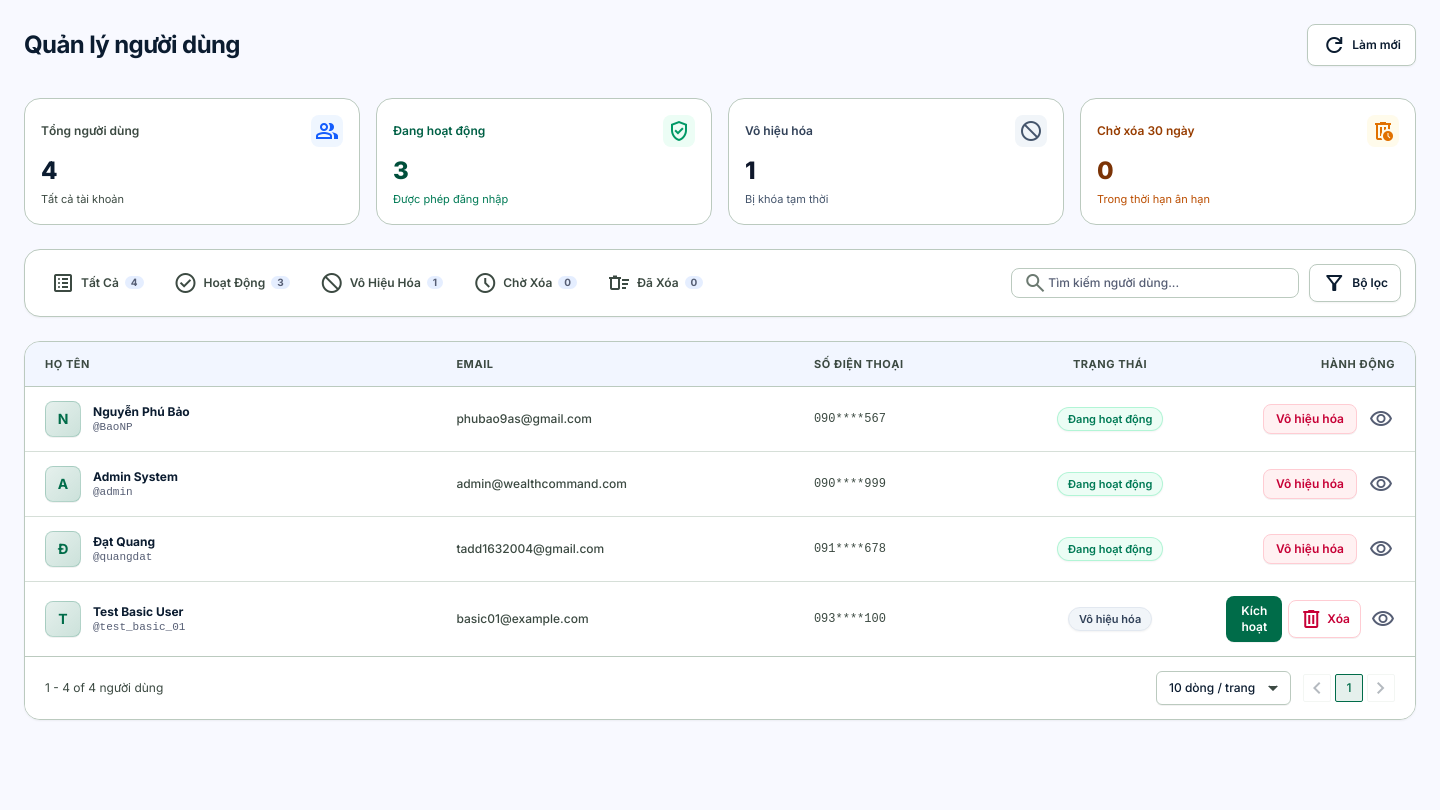
Test: UserListPage Refinements & 2-Tier Architecture Suite › ⚡ TẦNG 2: Real System Impact & Accurate Package Filtering Verification › 2.3. Nhấn "Đặt lại" (Reset): Khôi phục danh sách hiển thị đầy đủ cả Basic và Premium
Expected: the text "Nguyễn Phú Bảo" is shown, [93, 404, 190, 419]
Note: Lọc Premium trước
Click the button "Bộ lọc" at (1355, 282), box [1309, 264, 1401, 302]
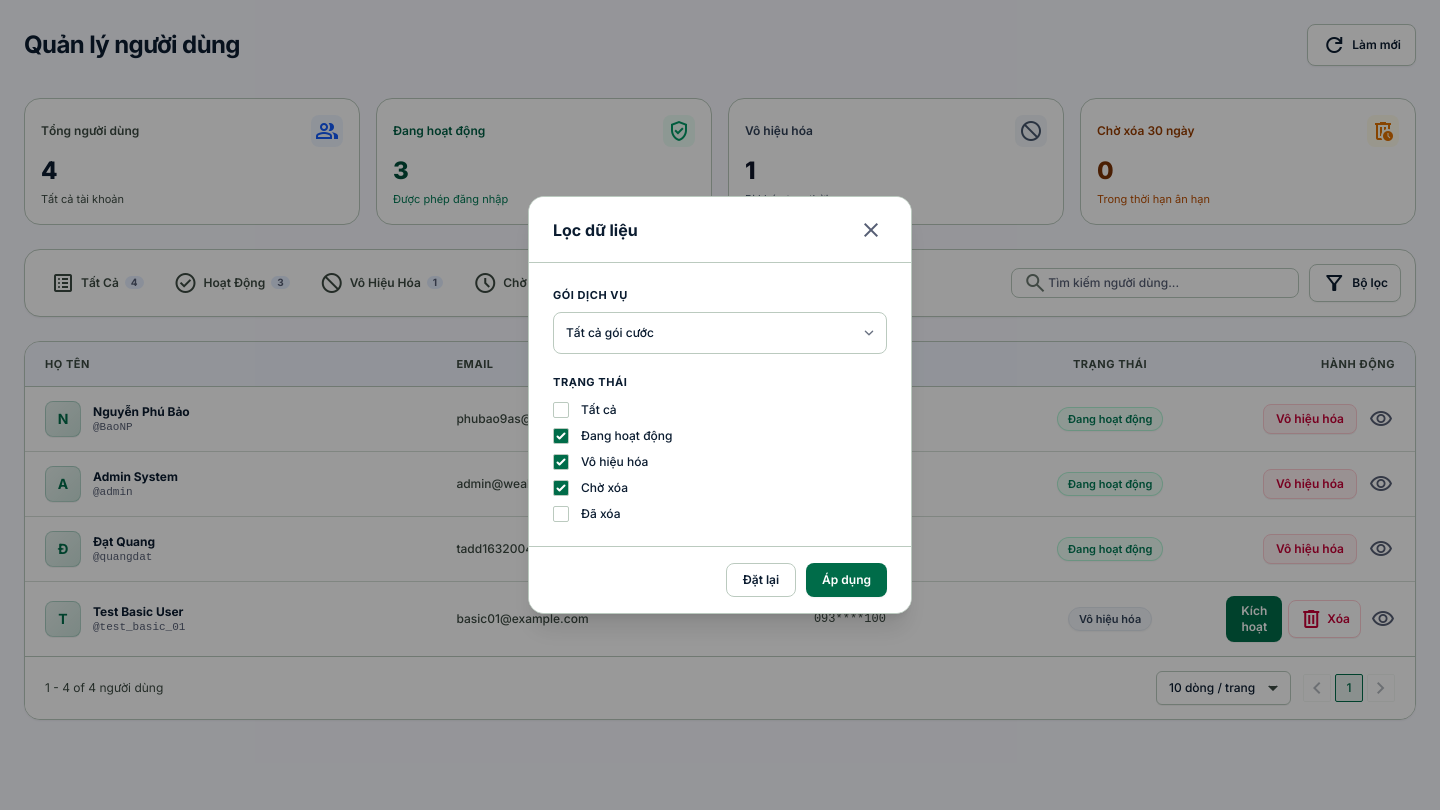
Select "Gói VIP (Premium)" in the dropdown with test id "filter-package" at (720, 333), box [553, 312, 887, 354]
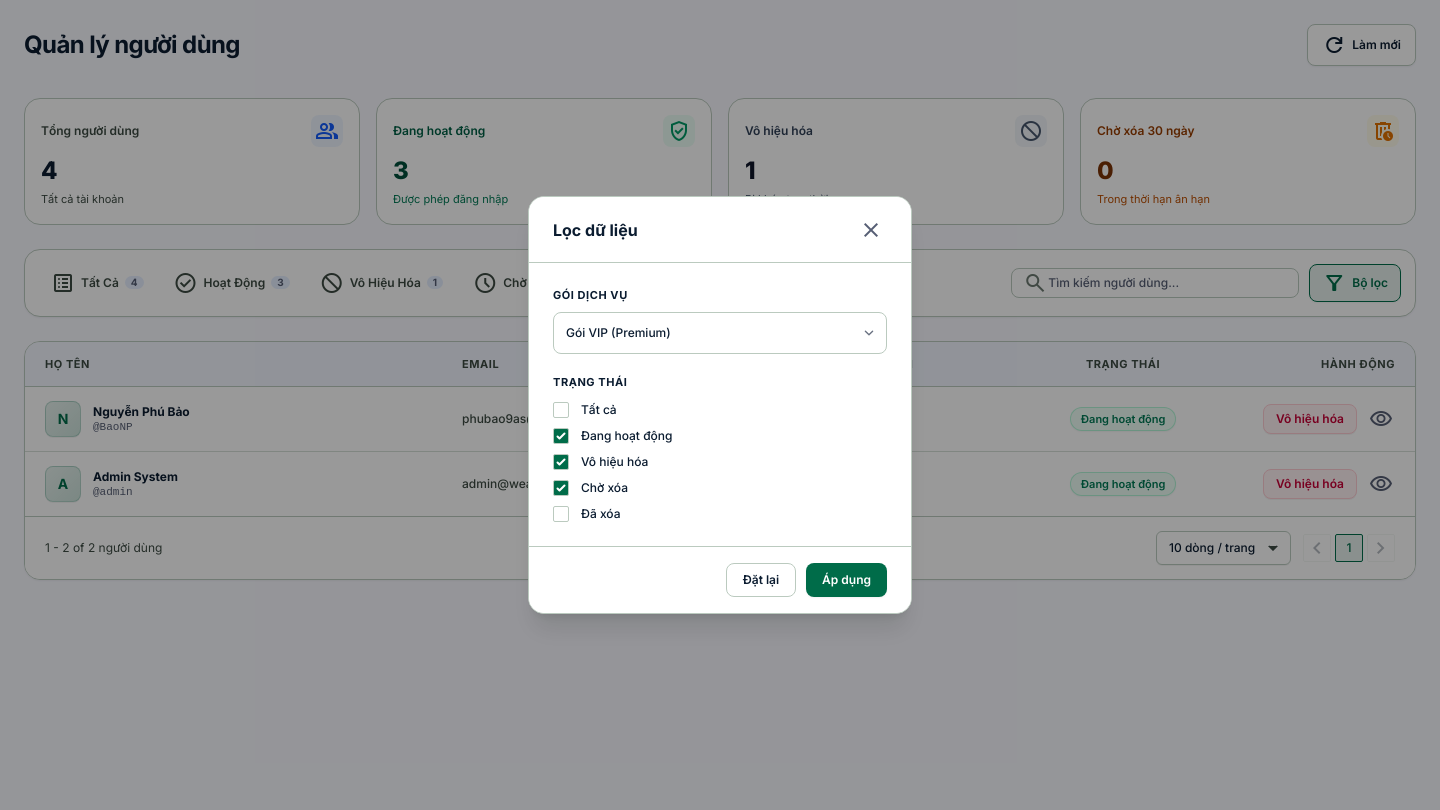
Click the button "Áp dụng" at (847, 580), box [806, 563, 887, 597]
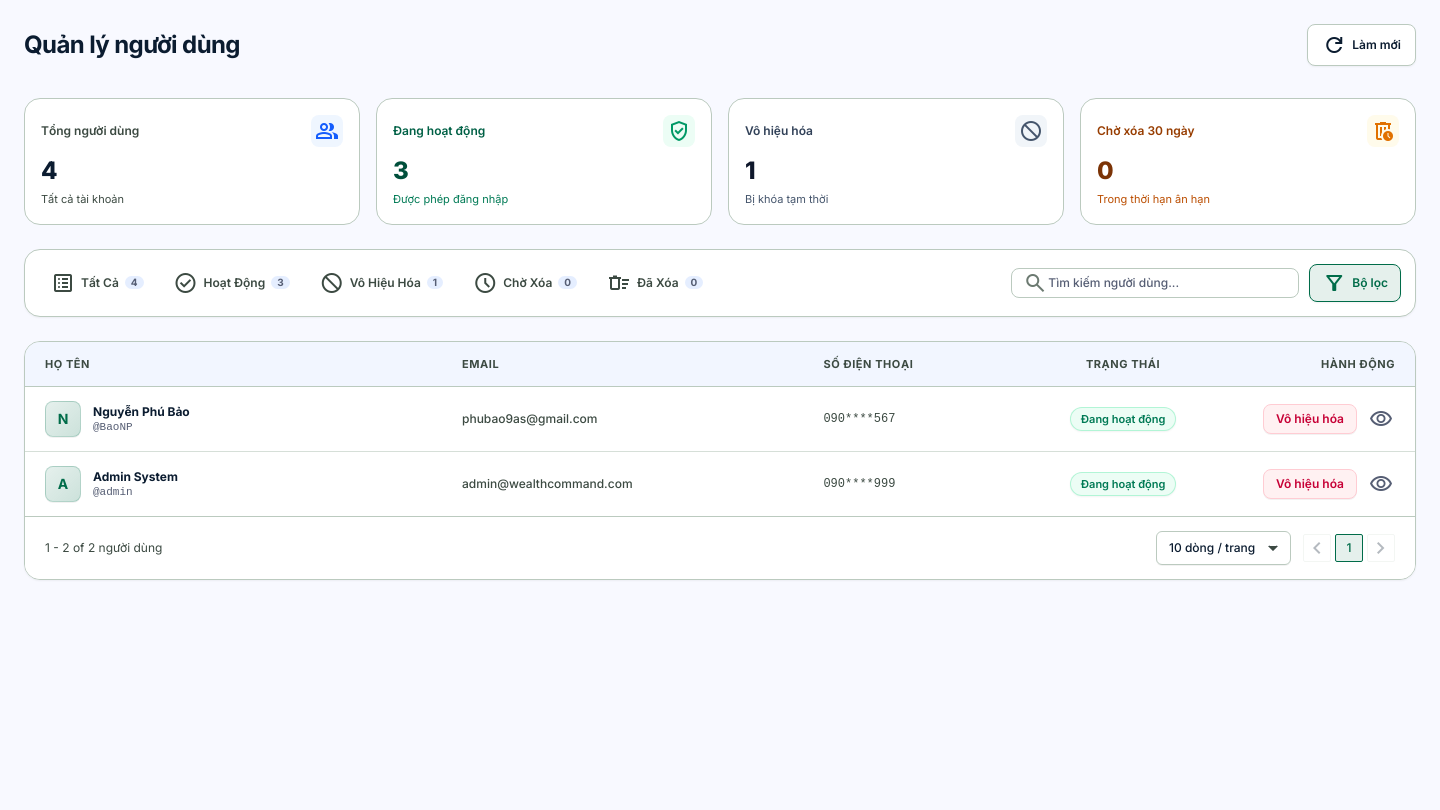
Expected: the text "Đạt Quang" is not shown
Note: Mở lại modal và nhấn "Đặt lại"
Click the button "Bộ lọc" at (1355, 282), box [1309, 264, 1401, 302]
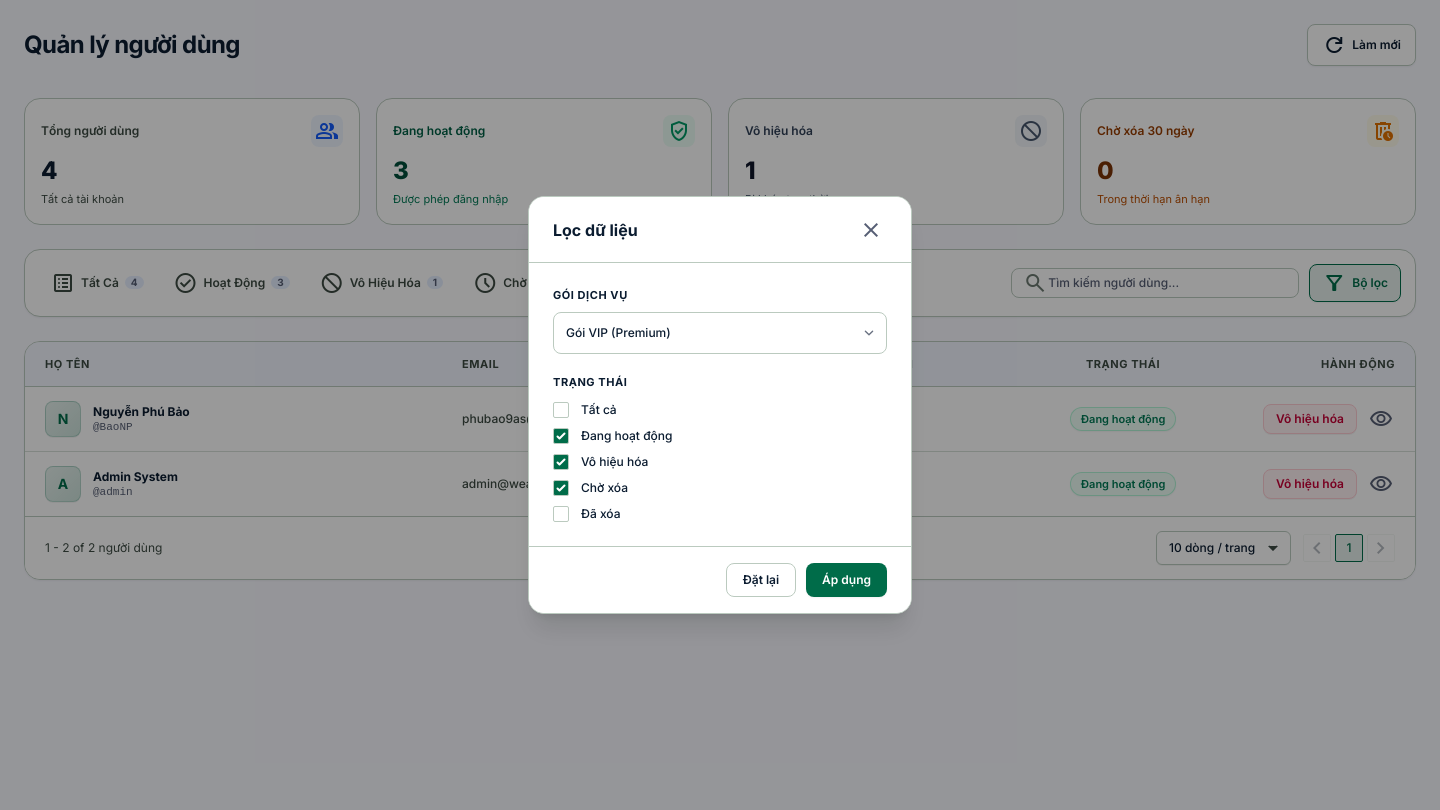
Click the button "Đặt lại" at (761, 580), box [726, 563, 796, 597]
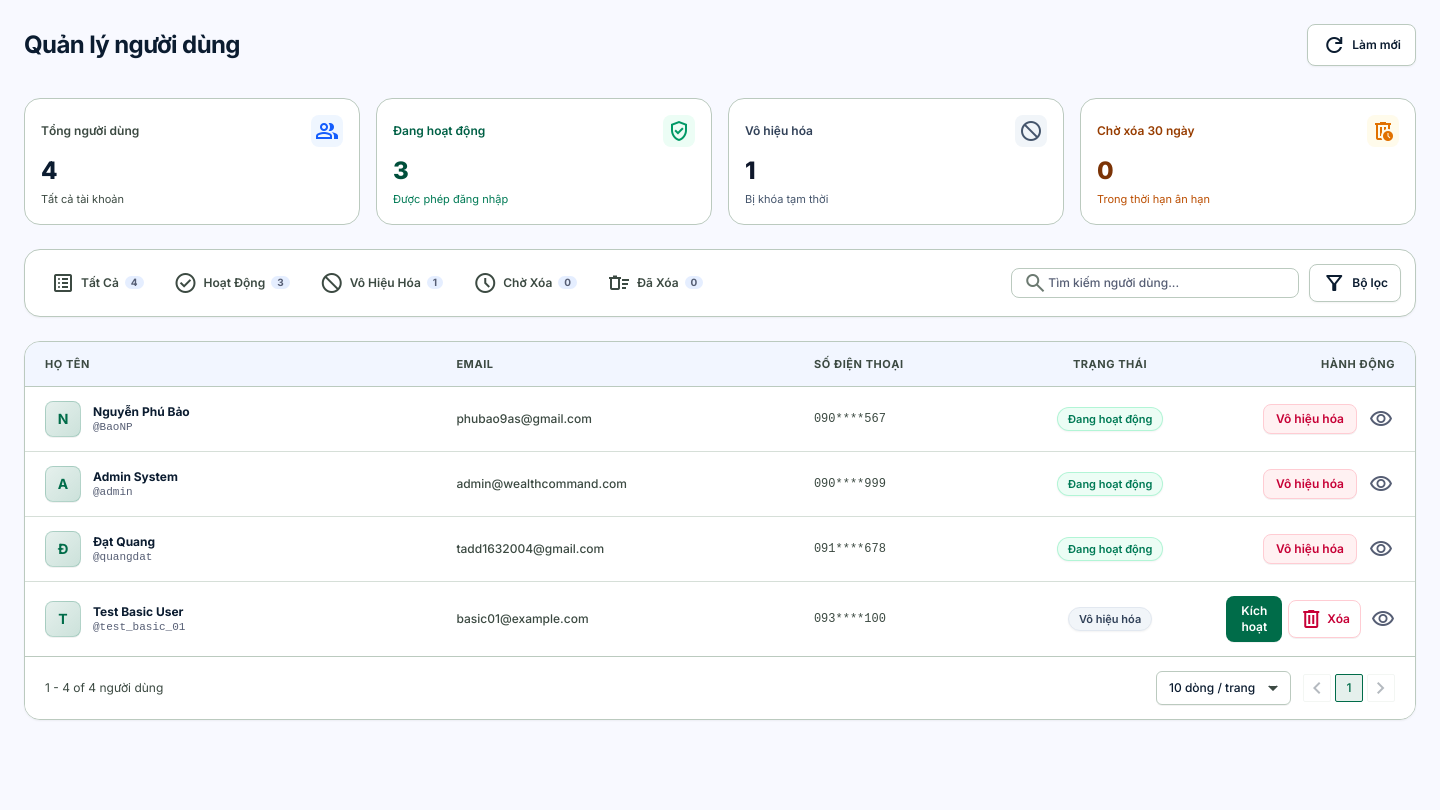
Expected: the text "Nguyễn Phú Bảo" is shown, [93, 404, 190, 419]
Result: the text "Đạt Quang" is shown at [93, 534, 155, 549]
